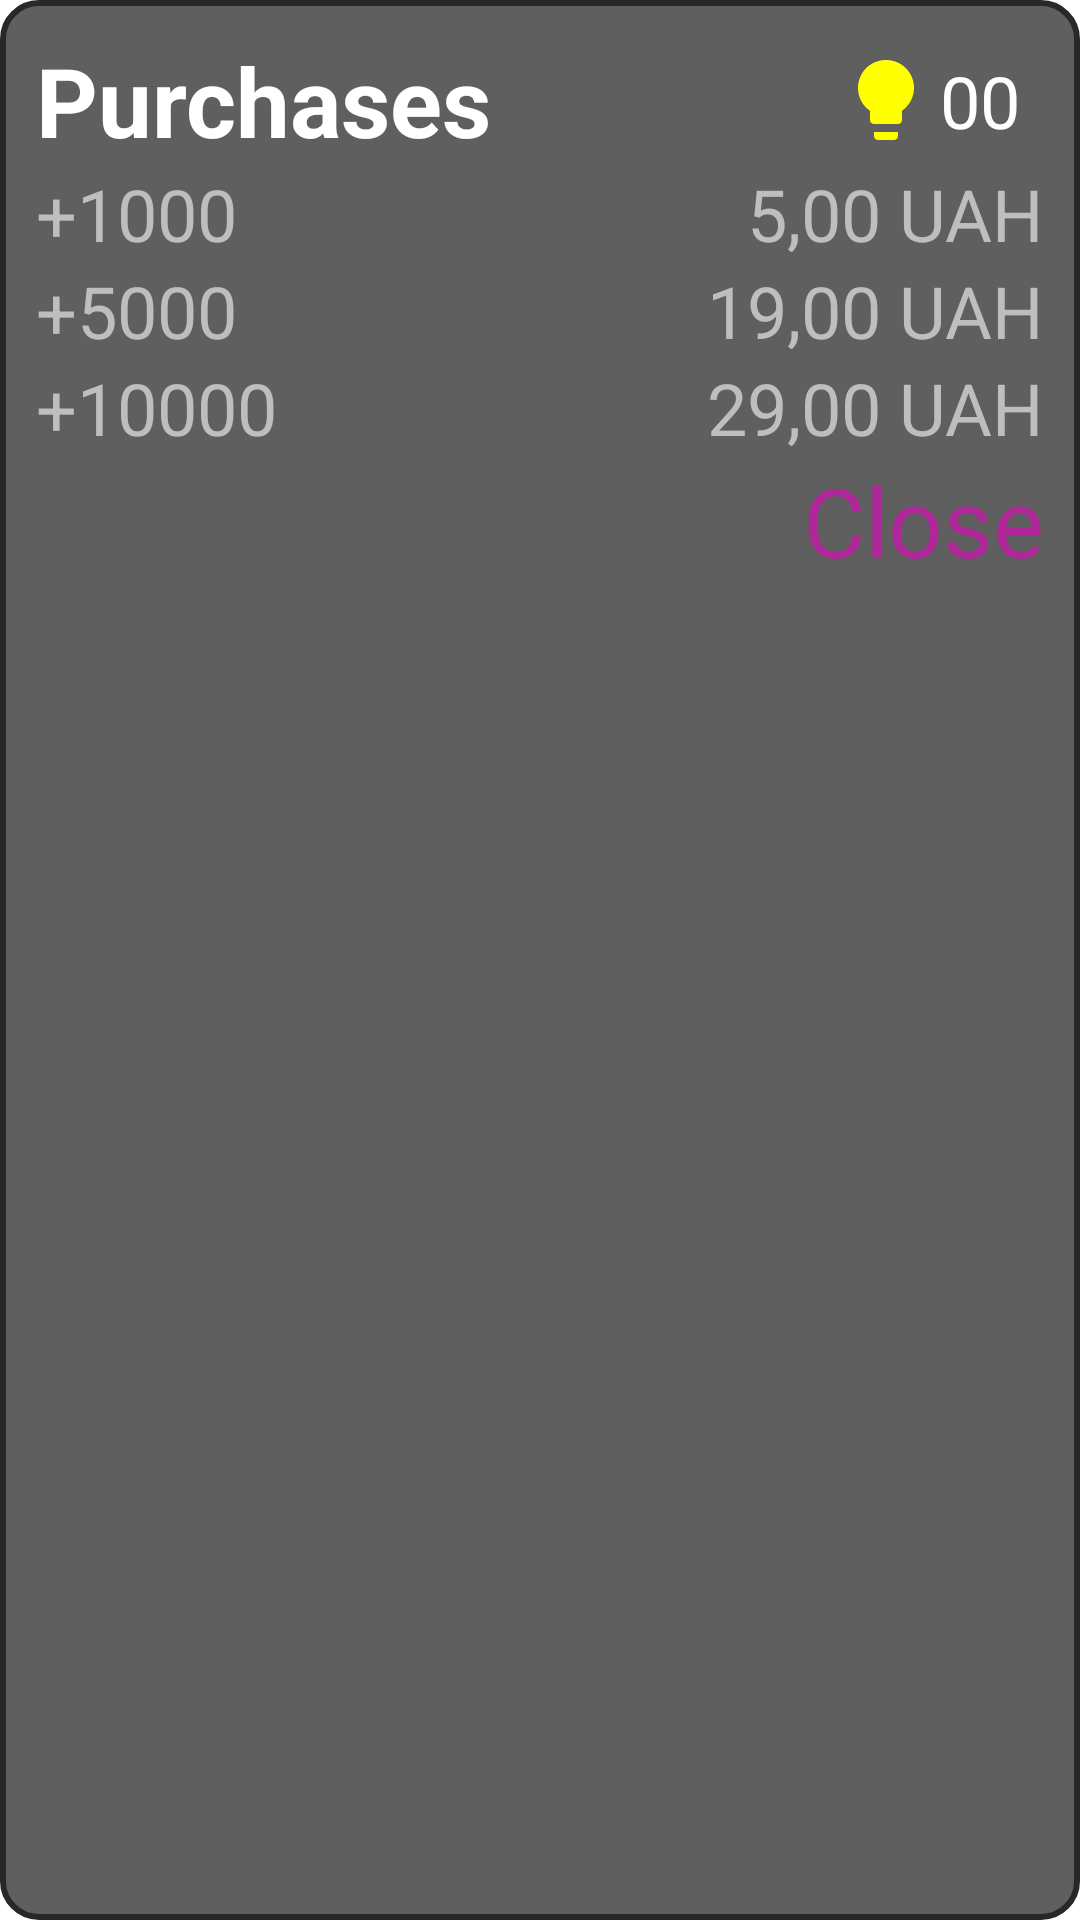

Where icons sit on this 1080x1920 app screen, as (x1=x1, y1=y1, x2=x2, y2=y2):
lightbulb: (x1=858, y1=60, x2=914, y2=140)
